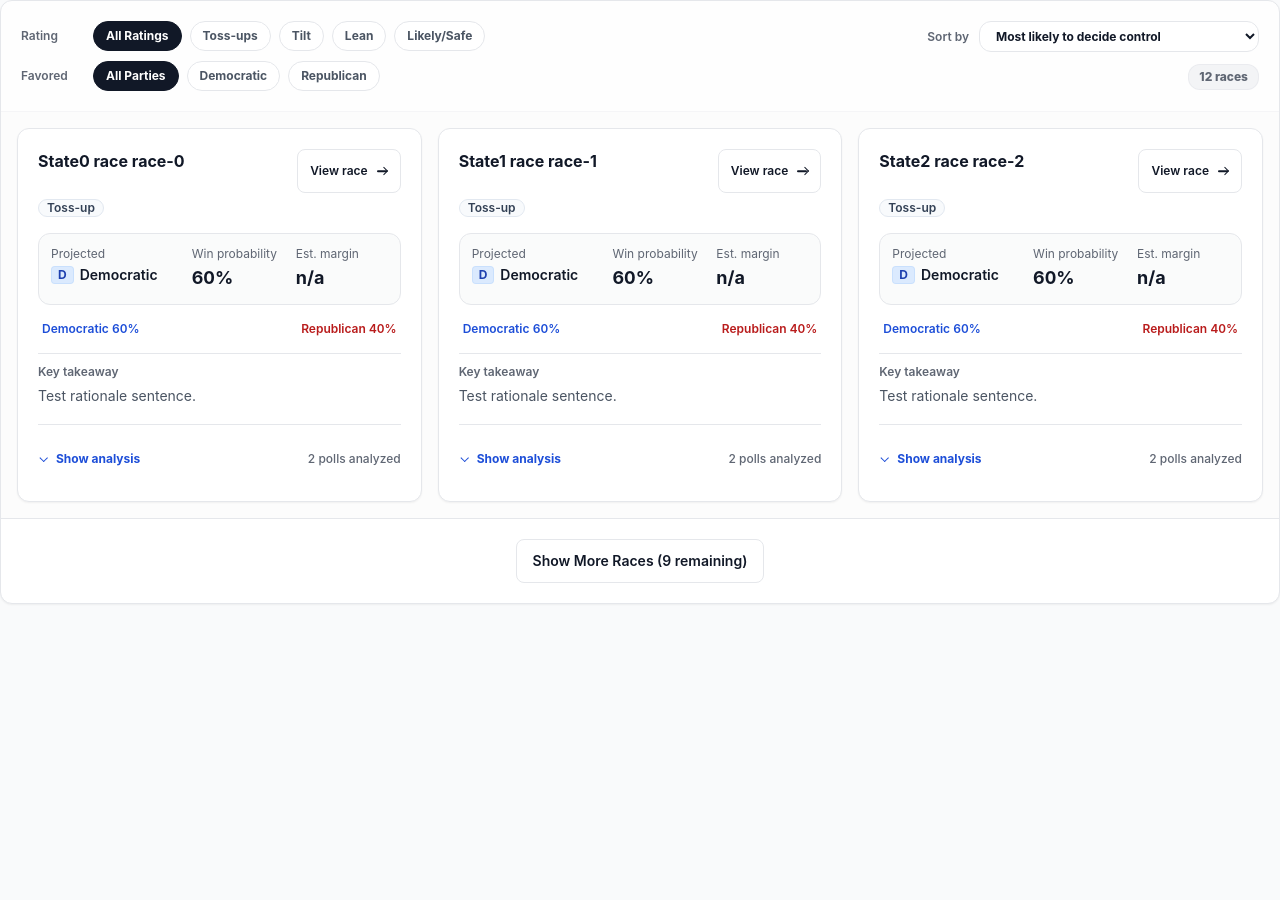
Test case: ForecastRaceList › paginates beyond the initial 3 races via the Show More button
The image size is (1280, 900).
Expected: the link "State0 race race-0" is shown, [38,149,185,173]
Expected: the text "State3 race race-3" is not shown
Click the button "Show More Races (9 remaining)". click: (640, 561)
box: [516,539,764,583]
(page scrolled)
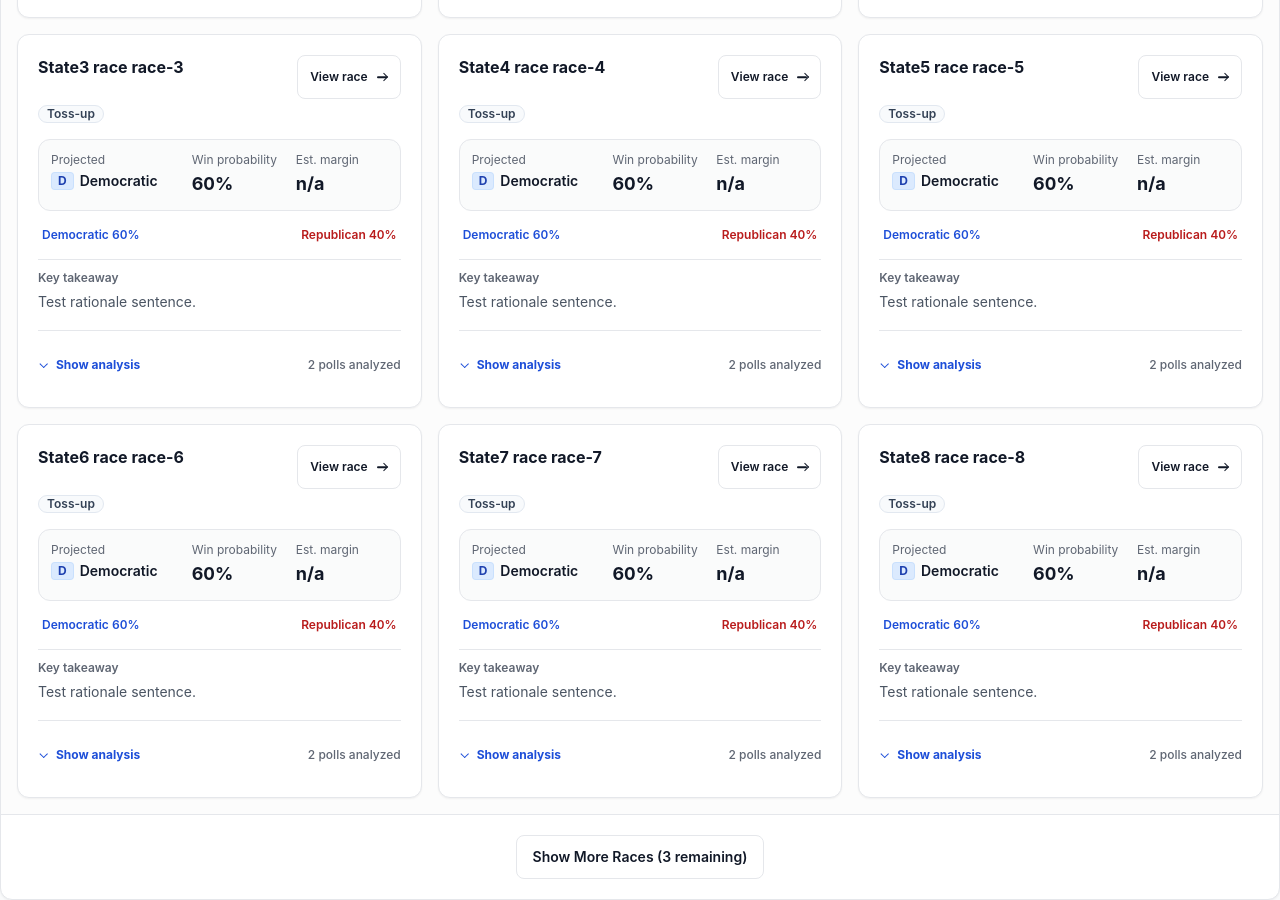
Expected: the link "State3 race race-3" is shown, [38,55,184,79]
Expected: the button "Show More Races (3 remaining)" is shown, [516,835,764,879]
